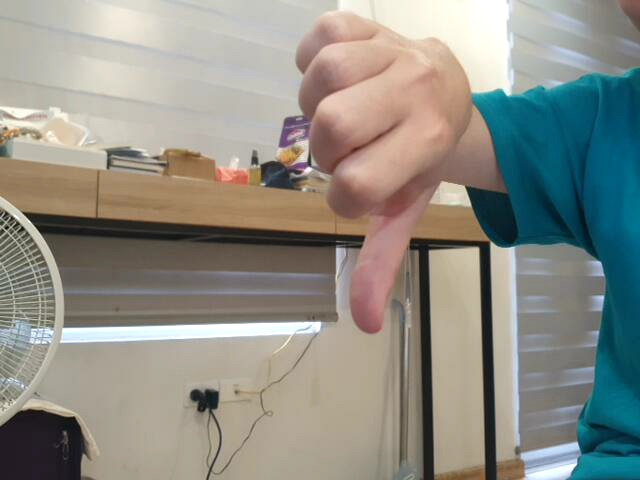ThumbsDown: (292, 7, 474, 340)
